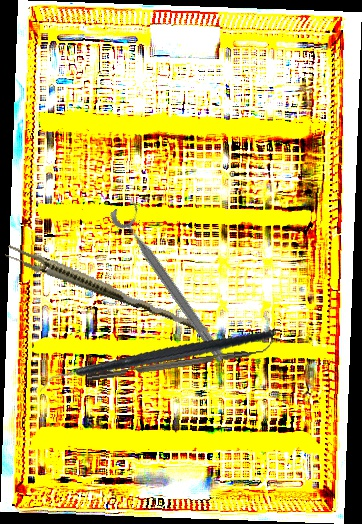Chopper: (39, 294, 275, 430), (85, 338, 277, 382)
Fixation Ring: (107, 197, 239, 366)
Tissue Forceps: (2, 242, 212, 339)
